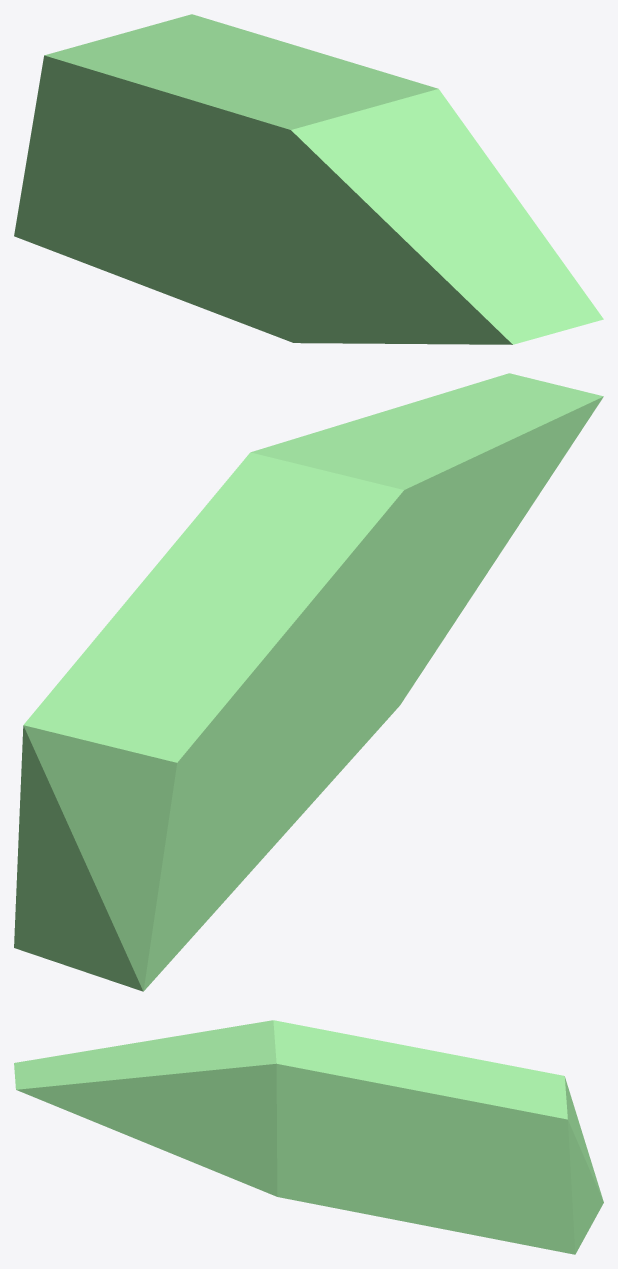
File: dxxx_Lp11_respondable_PSM1_coll_4.dae
The picture shows the model from 3 angles, top to bottom: view 1: azimuth 30°, elevation 25°; view 2: azimuth 150°, elevation 25°; view 3: azimuth 270°, elevation 25°; orthographic projection. The views are drawn at different scales.
Parts seen in each view (by area): view 1: Node_000001D818CB9710; view 2: Node_000001D818CB9710; view 3: Node_000001D818CB9710.
Part boxes in pixels (x1,y1,x2,y2): Node_000001D818CB9710: (14, 14, 603, 344); Node_000001D818CB9710: (14, 373, 603, 991); Node_000001D818CB9710: (14, 1020, 603, 1254).
Bounding box in the file's own units: 0.0142 × 0.0259 × 0.0716.
